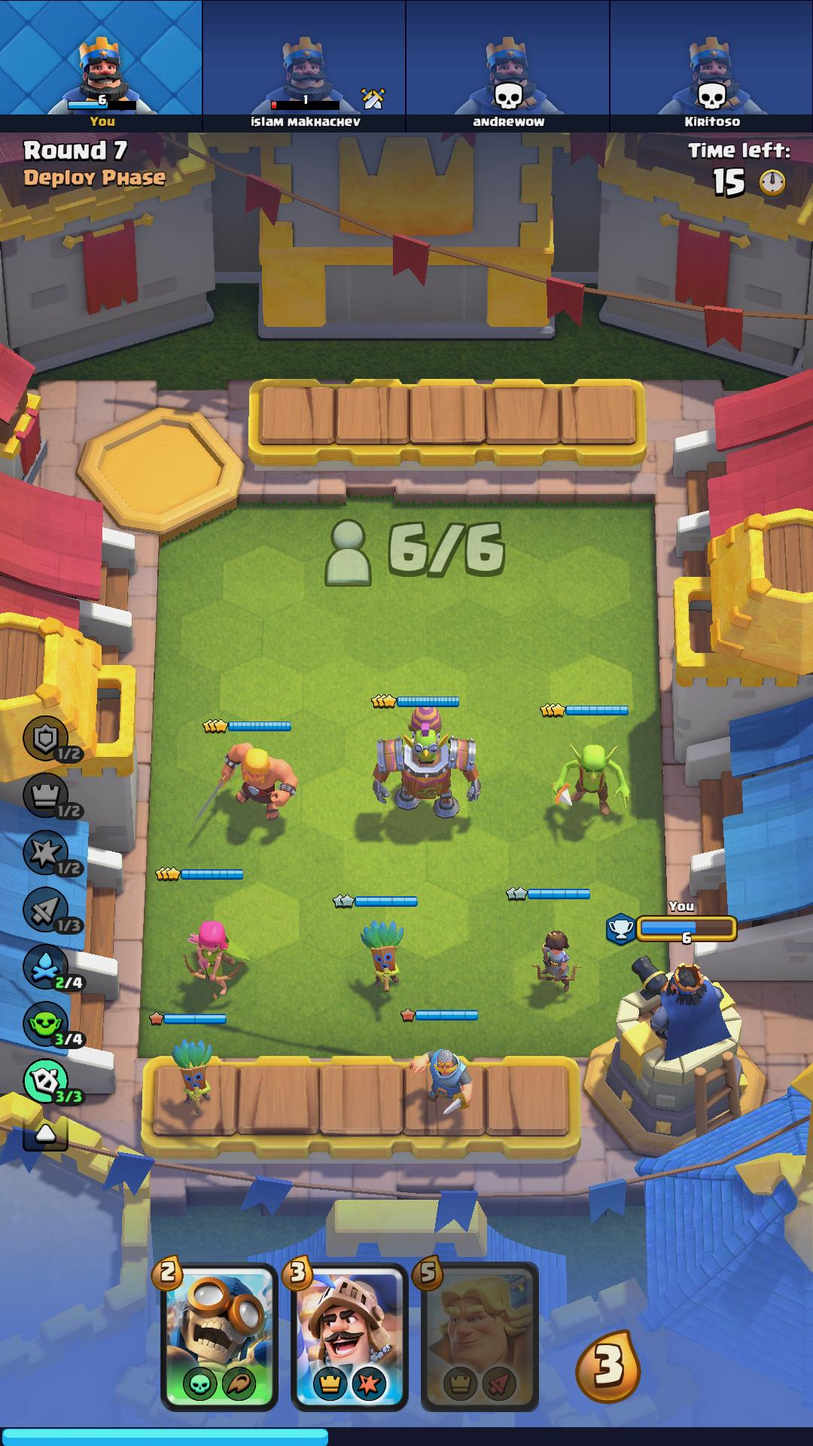archer: (188, 919, 242, 1000)
barbarian: (217, 739, 295, 822)
dart: (354, 912, 407, 990), (166, 1035, 218, 1108)
goblin: (547, 732, 631, 820)
hand-bomber: (160, 1266, 273, 1404)
hand-golden: (422, 1265, 537, 1405)
hand-prince: (293, 1264, 407, 1407)
knight: (406, 1034, 476, 1114)
machine: (367, 707, 484, 822)
princess: (532, 922, 579, 992)
